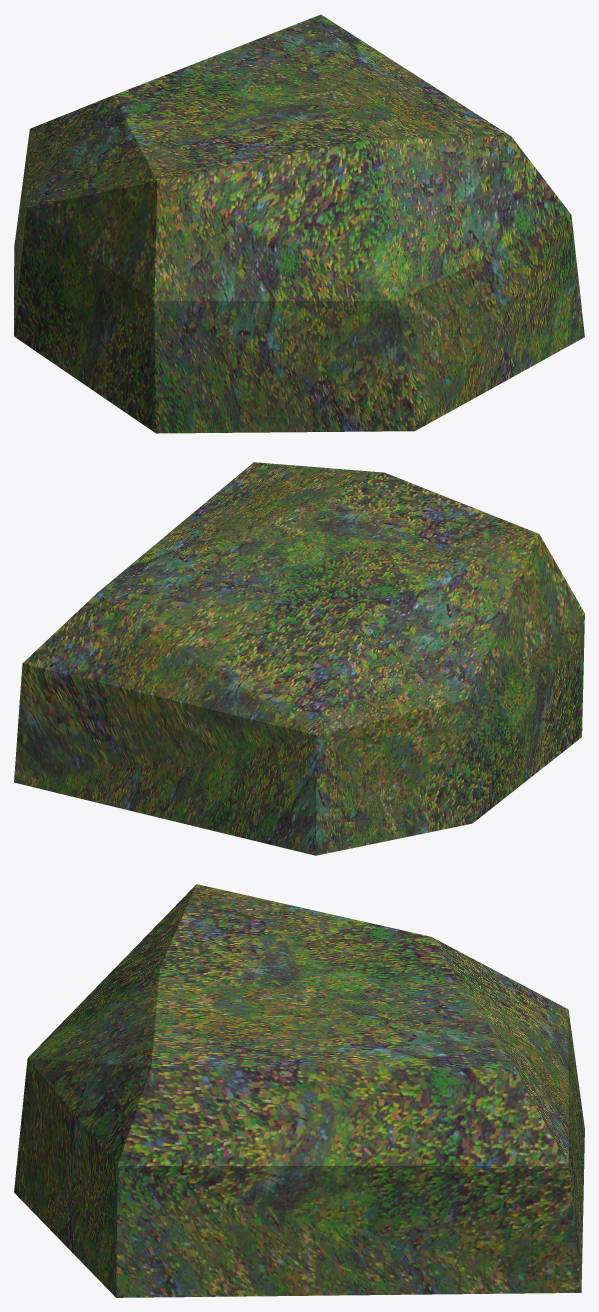
The model's file is rock_mossy_small_l3.fbx.
3 views of the same model, one above another, from view 1: azimuth 30°, elevation 25°; view 2: azimuth 150°, elevation 25°; view 3: azimuth 270°, elevation 25° (orthographic). The views are drawn at different scales.
Visible parts, largest first — view 1: mesh_node; view 2: mesh_node; view 3: mesh_node.
Boxes of the visible parts, x1,y1,x2,y2 form: mesh_node: [14, 14, 584, 433]; mesh_node: [14, 462, 584, 855]; mesh_node: [14, 884, 584, 1297].
Bounding box in the file's own units: 1.64 × 0.8804 × 1.9.
